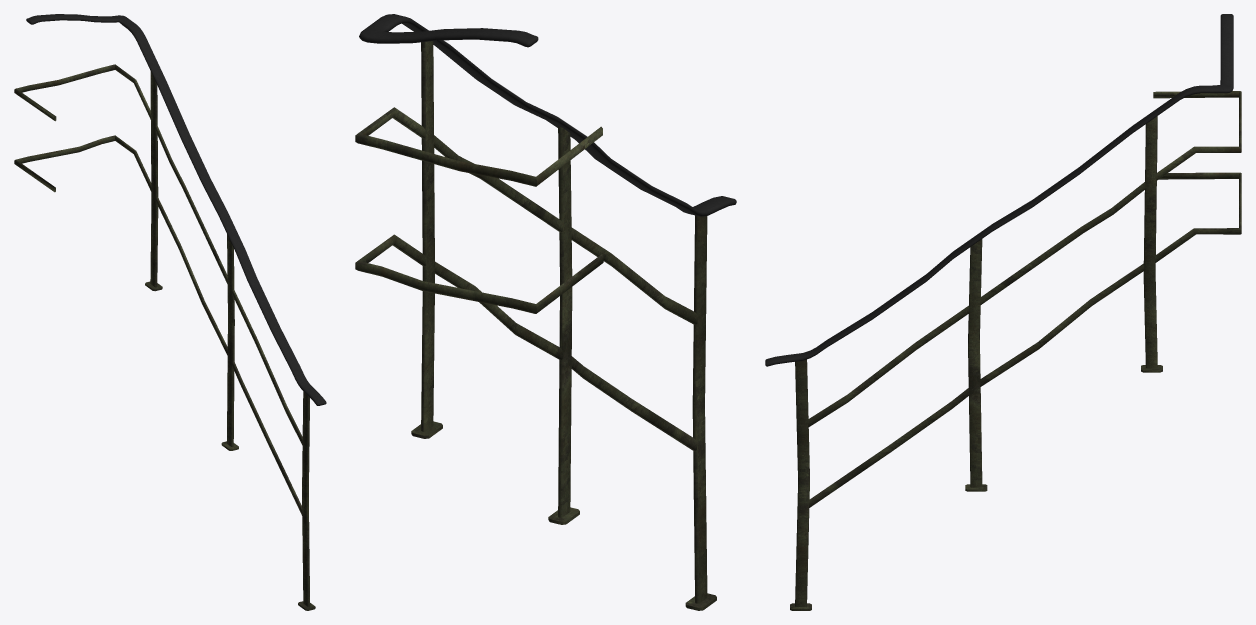
File: hand_rail_2.glb
3 views of the same model, side by side, from view 1: azimuth 30°, elevation 25°; view 2: azimuth 150°, elevation 25°; view 3: azimuth 270°, elevation 25° (orthographic). The views are drawn at different scales.
Parts seen in each view (by area): view 1: hand_rail_2; view 2: hand_rail_2; view 3: hand_rail_2.
Part boxes in pixels (<box>): hand_rail_2: <box>14,14,326,610</box>; hand_rail_2: <box>355,14,736,610</box>; hand_rail_2: <box>765,14,1241,610</box>.
Bounding box in the file's own units: 0.6361 × 2.74 × 2.17.
Materials: 2 (2 with a texture image).
